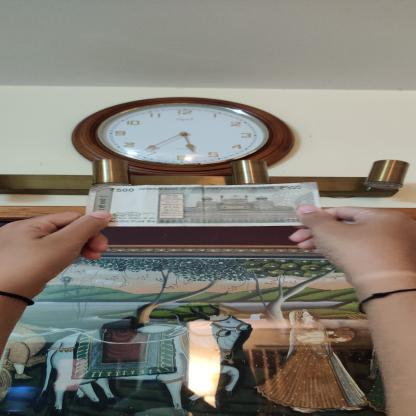New500Back: (87, 181, 326, 227)
